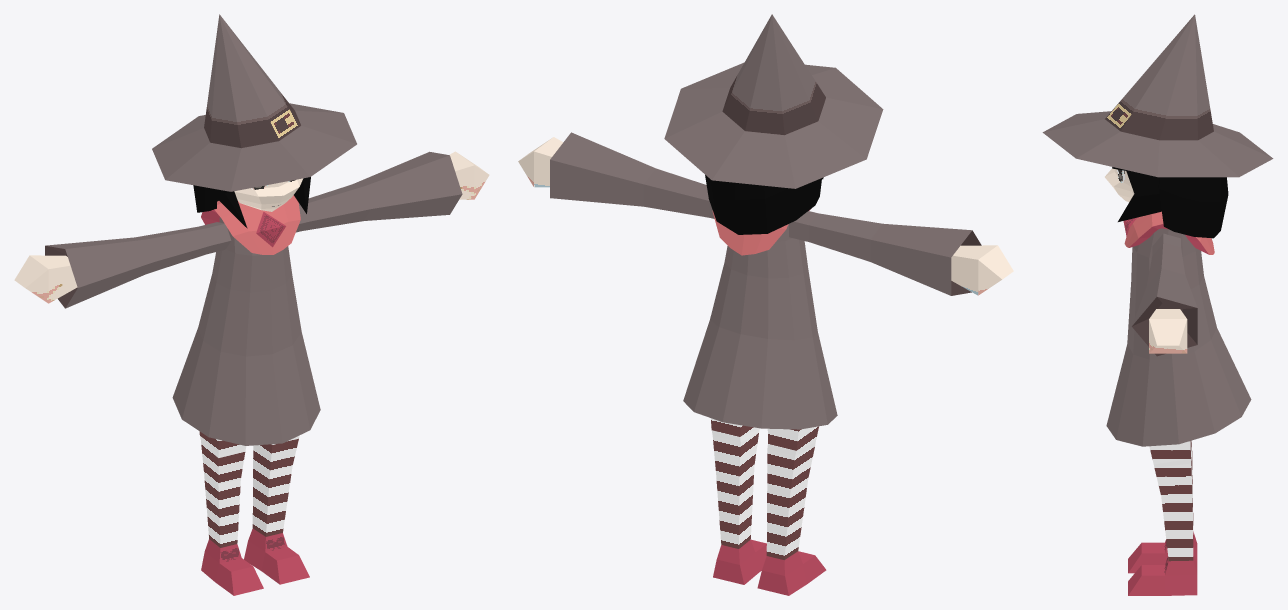
3 views of the same model, side by side, from view 1: azimuth 30°, elevation 25°; view 2: azimuth 150°, elevation 25°; view 3: azimuth 270°, elevation 25° (orthographic). The views are drawn at different scales.
Parts seen in each view (by area): view 1: Body, Hat, Cylinder, legs, Cube, Face, Hair2; view 2: Hat, Body, Cylinder, legs, Hair3, Cube; view 3: Body, Hat, legs, Cylinder, Hair3, Cube, Hair2, Face.
Boxes of the visible parts, x1,y1,x2,y2 form: Body: (172, 195, 320, 445); Hat: (152, 14, 356, 191); Cylinder: (45, 151, 462, 308); legs: (199, 431, 309, 595); Cube: (14, 151, 489, 303); Face: (234, 178, 303, 211); Hair2: (215, 177, 310, 228); Hat: (664, 14, 883, 188); Body: (683, 209, 837, 429); Cylinder: (550, 132, 981, 295); legs: (710, 418, 826, 595); Hair3: (705, 175, 821, 234); Cube: (518, 137, 1013, 295); Body: (1106, 211, 1251, 446); Hat: (1042, 14, 1273, 177); legs: (1128, 440, 1197, 595); Cylinder: (1132, 233, 1197, 356); Hair3: (1158, 177, 1228, 238); Cube: (1149, 309, 1187, 353); Hair2: (1118, 171, 1161, 221); Face: (1105, 168, 1134, 202).
Size of the model in its own units: 3.53 by 4.01 by 1.52.
3 materials, 3 textured.
